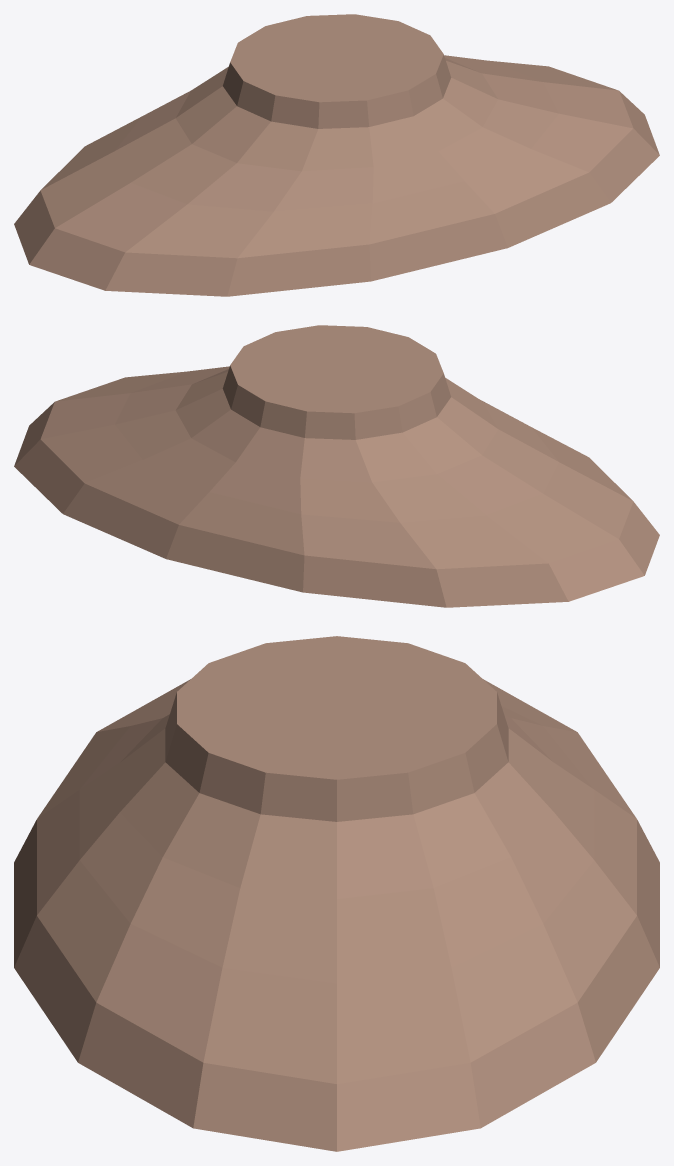
Rendered from ShoulderYoke.fbx.
The picture shows the model from 3 angles, top to bottom: view 1: azimuth 30°, elevation 25°; view 2: azimuth 150°, elevation 25°; view 3: azimuth 270°, elevation 25°; orthographic projection. The views are drawn at different scales.
Visible parts, largest first — view 1: ShoulderYoke; view 2: ShoulderYoke; view 3: ShoulderYoke.
Part boxes in pixels (left/top/right/bottom): ShoulderYoke: left=14, top=14, right=659, bottom=296; ShoulderYoke: left=14, top=325, right=659, bottom=607; ShoulderYoke: left=14, top=636, right=659, bottom=1151.
Size of the model in its own units: 0.382 by 0.078 by 0.2203.
